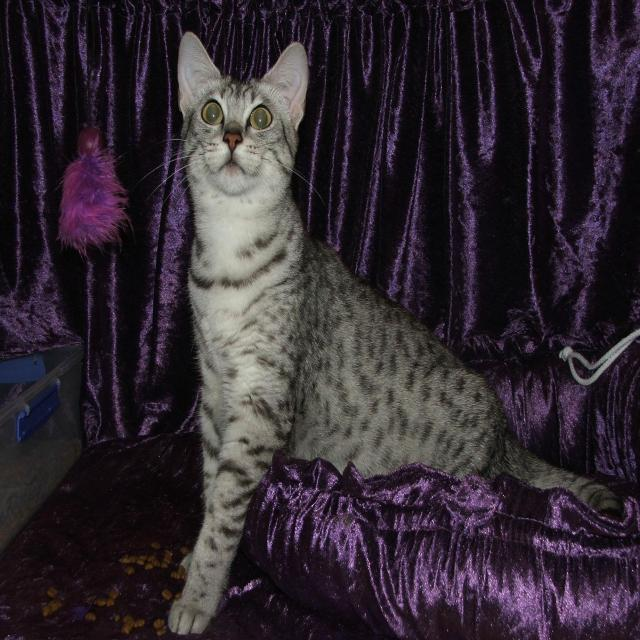Egyptian_Mau: (177, 32, 307, 194)
